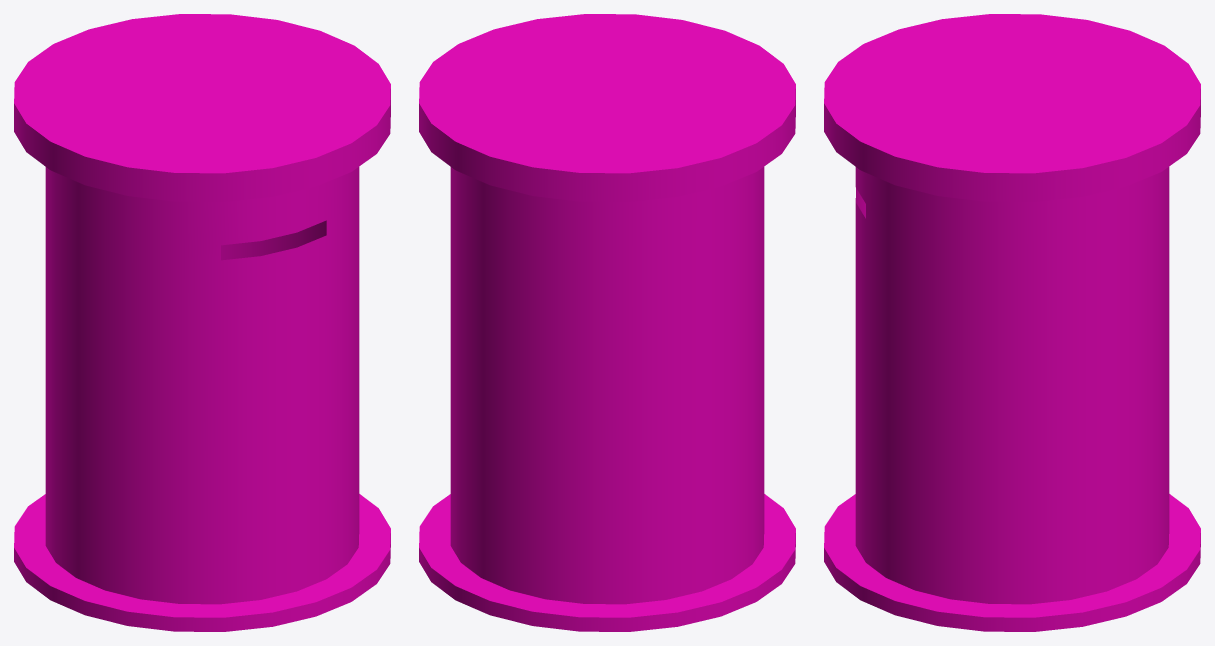
Rendered from Krapook.fbx.
3 renders of one model, left to right at view 1: azimuth 30°, elevation 25°; view 2: azimuth 150°, elevation 25°; view 3: azimuth 270°, elevation 25°, orthographic.
Visible parts, largest first — view 1: KrapookMesh; view 2: KrapookMesh; view 3: KrapookMesh.
Boxes of the visible parts, bbox=[...] form: KrapookMesh: bbox=[14, 14, 390, 631]; KrapookMesh: bbox=[419, 14, 795, 631]; KrapookMesh: bbox=[824, 14, 1200, 631].
Size of the model in its own units: 8.94 by 12 by 8.94.
